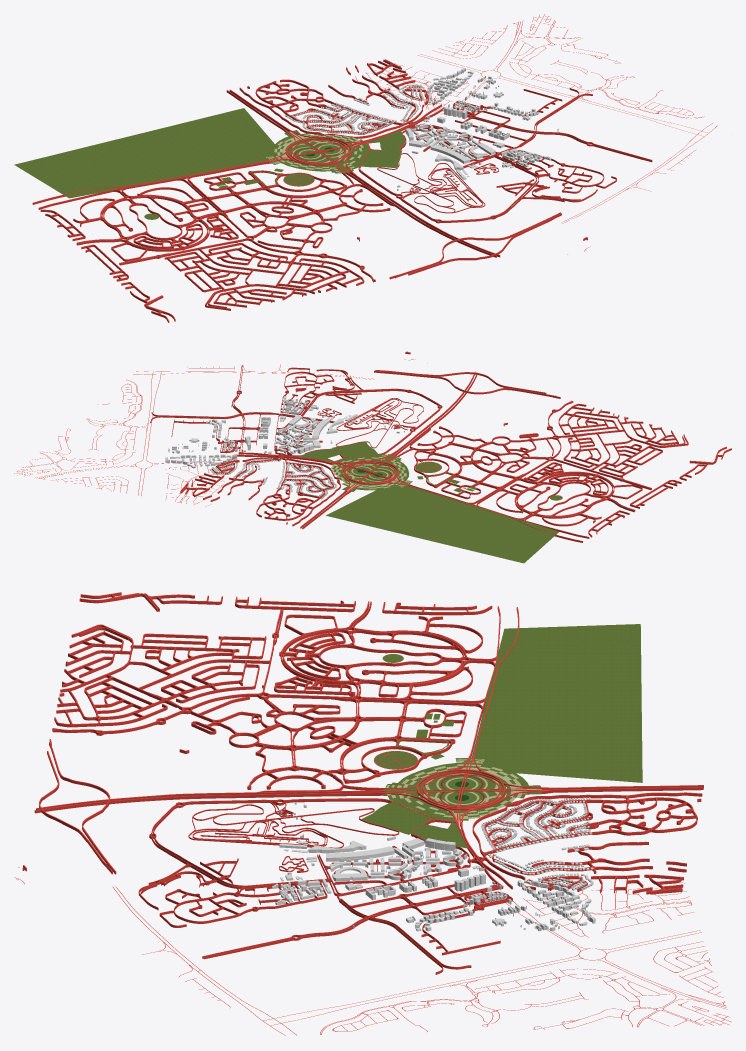
Rendered from Velos_mini_map.glb.
3 views of the same model, one above another, from view 1: azimuth 30°, elevation 25°; view 2: azimuth 150°, elevation 25°; view 3: azimuth 270°, elevation 25° (orthographic). The views are drawn at different scales.
Parts seen in each view (by area): view 1: road, tree, build; view 2: road, tree, build; view 3: road, tree, build.
Part boxes in pixels (x1,y1,x2,y2): road: (32,14,717,322); tree: (14,108,404,219); build: (285,68,558,190); road: (14,351,731,542); tree: (298,442,562,563); build: (165,396,404,499); road: (14,592,731,1035); tree: (361,624,642,848); build: (272,797,595,931).
Size of what is drawn, in the model's own units: 7492 by 184 by 5270.
7 materials, 1 textured.
